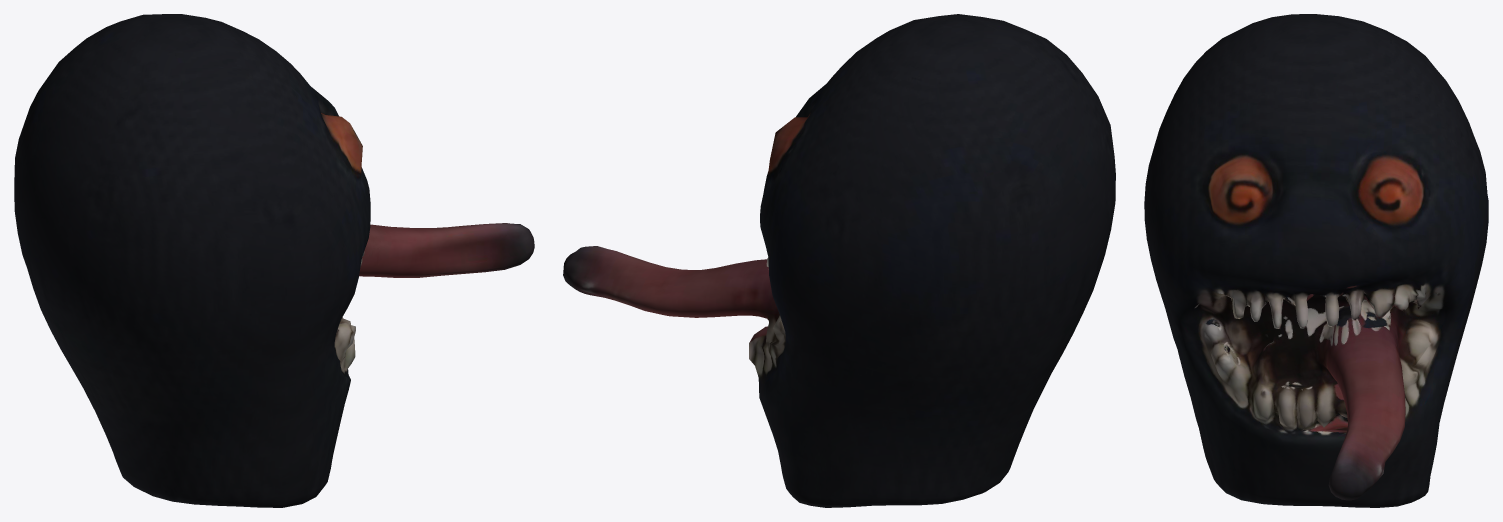
Rendered from 3f4ad0022d8b_4a790e9c4a5f_Dark_face_smoke_hor.glb.
3 renders of one model, left to right at view 1: azimuth 30°, elevation 25°; view 2: azimuth 150°, elevation 25°; view 3: azimuth 270°, elevation 25°, orthographic. The views are drawn at different scales.
Parts seen in each view (by area): view 1: mesh; view 2: mesh; view 3: mesh.
Part boxes in pixels (x1,y1,x2,y2): mesh: (14, 14, 534, 507); mesh: (563, 14, 1115, 507); mesh: (1144, 14, 1488, 507).
Bounding box in the file's own units: 0.9984 × 0.8603 × 0.6257.
1 material, 1 textured.
